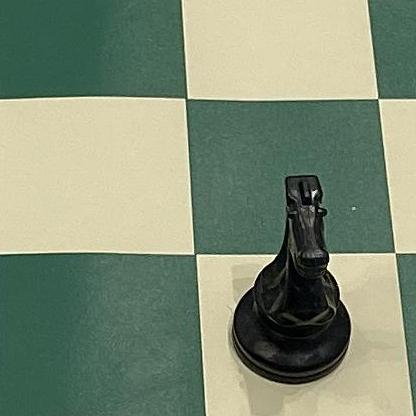black-knight: (227, 174, 356, 386)
